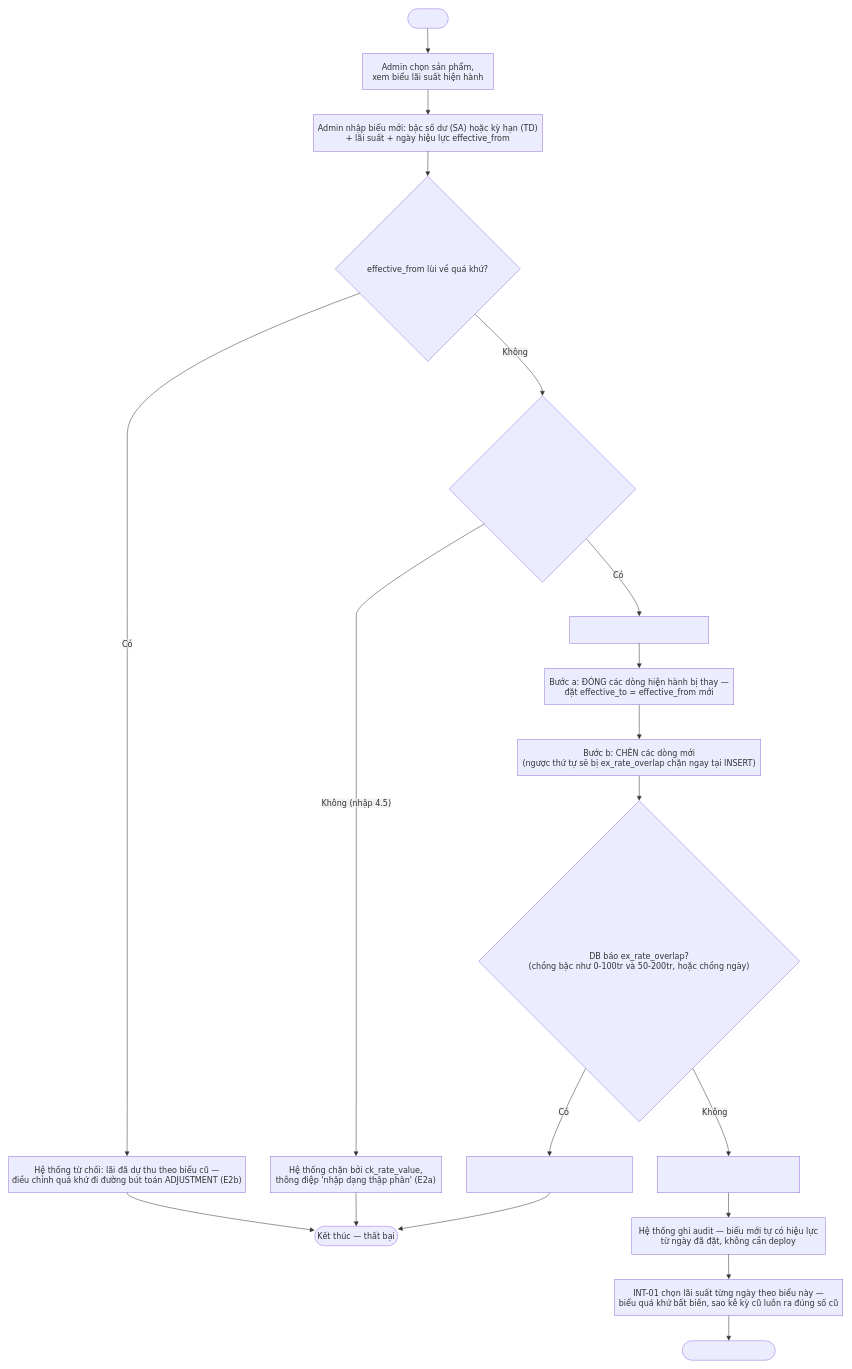
Some shapes in this 852 by 1369 pixel diagram are drawn without their labels. Here are the shapes that lost their labels. From the top down, the centre of each, then its label:
At [427,18]: "Bắt đầu".
At [542,488]: "Lãi suất nhập dạng thập phân, nhỏ hơn 1? (0.045 = 4,5%/năm)".
At [639,629]: "Hệ thống mở MỘT transaction".
At [549,1174]: "Hệ thống rollback transaction, trả lỗi chỉ rõ dòng nào chồng dòng nào (E3a)".
At [728,1174]: "Hệ thống commit transaction (đóng + chèn trọn gói — BR-G5)".
At [728,1350]: "Kết thúc — thành công".
